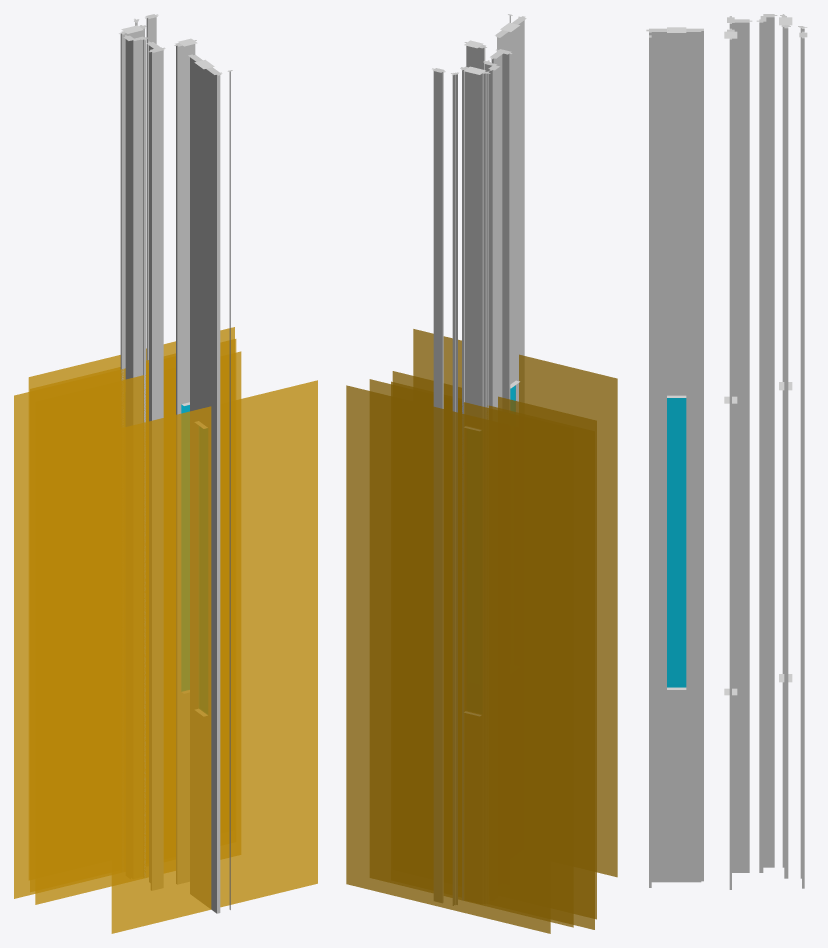
3 renders of one model, left to right at view 1: azimuth 30°, elevation 25°; view 2: azimuth 150°, elevation 25°; view 3: azimuth 270°, elevation 25°, orthographic. The views are drawn at different scales.
Visible parts, largest first — view 1: doors, walls, windows; view 2: doors, walls; view 3: walls, windows, roof.
Boxes of the visible parts, bbox=[...] form: doors: bbox=[14, 327, 317, 933]; walls: bbox=[120, 17, 230, 913]; windows: bbox=[181, 404, 207, 714]; doors: bbox=[346, 329, 617, 933]; walls: bbox=[433, 15, 524, 905]; walls: bbox=[649, 17, 804, 889]; windows: bbox=[667, 398, 686, 687]; roof: bbox=[646, 14, 807, 39].
Bounding box in the file's own units: 1.06 × 3.5 × 0.6225.
